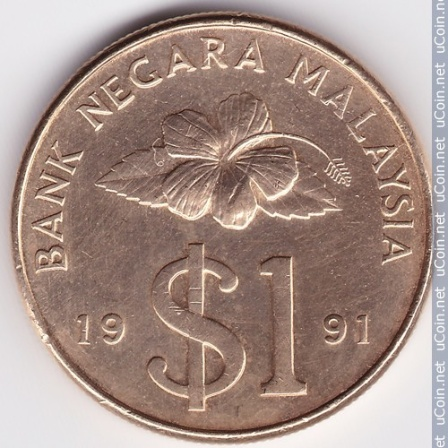1r: (8, 10, 435, 444)
